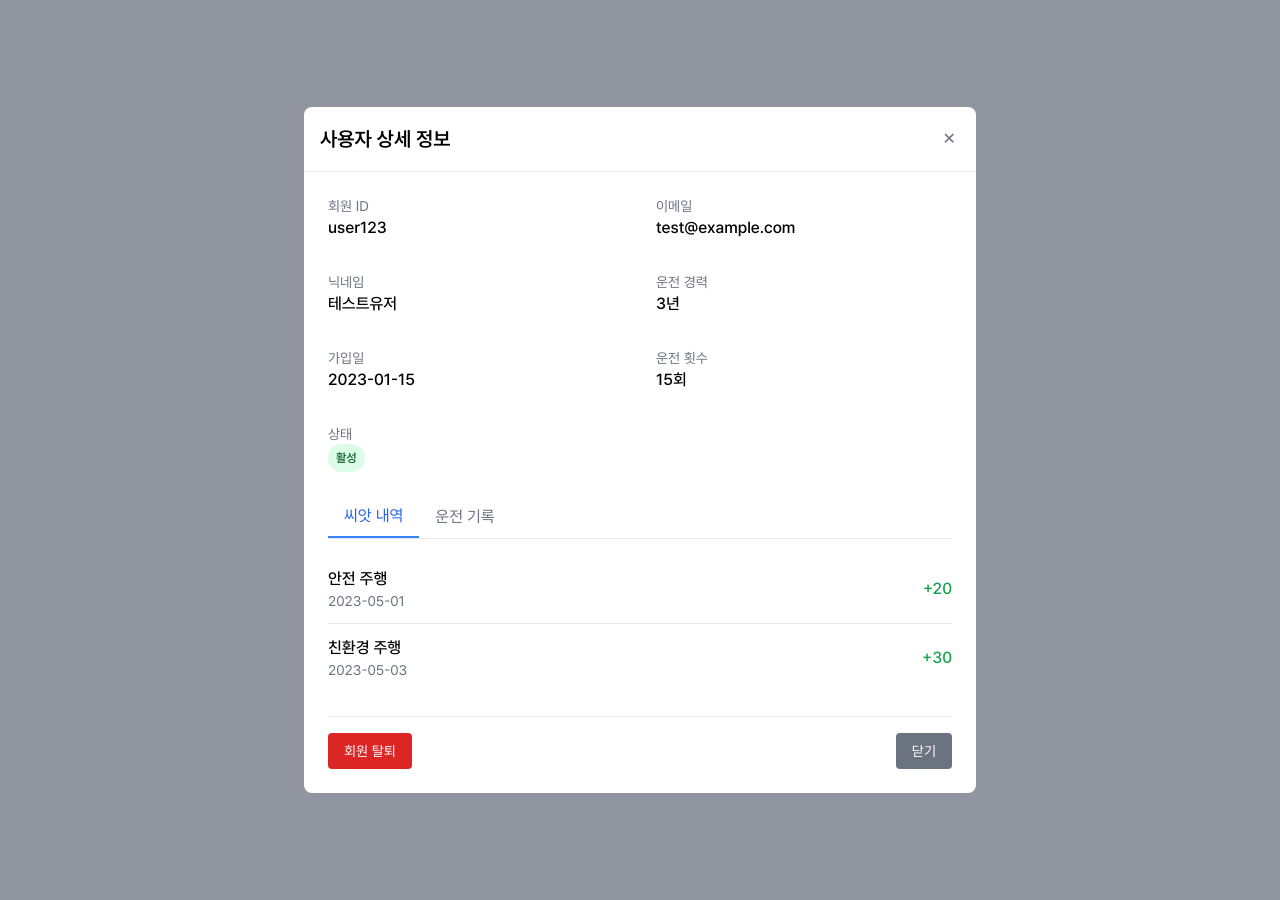
Test: UserDetailModal › TC-USERDETAIL-004::Unit::컴포넌트 동작::운전 기록 탭::운전 정보 표시
Note: 운전 기록 탭으로 변경
Click the button "운전 기록" at (465, 517), box [419,496,511,538]
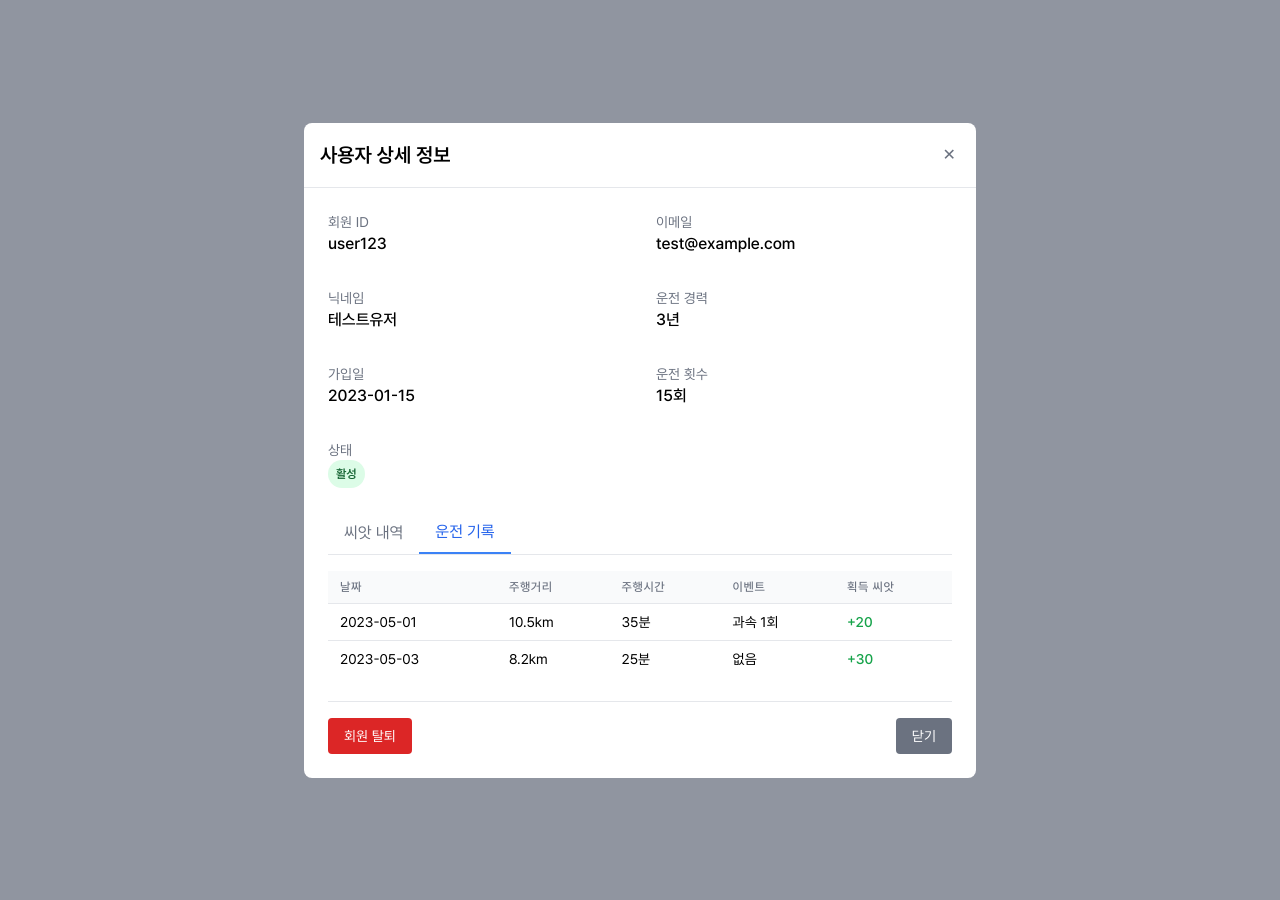
Expected: the text "10.5km" is shown, [497,603,609,640]
Expected: the text "8.2km" is shown, [497,640,609,676]
Expected: the text "35분" is shown, [610,603,721,640]
